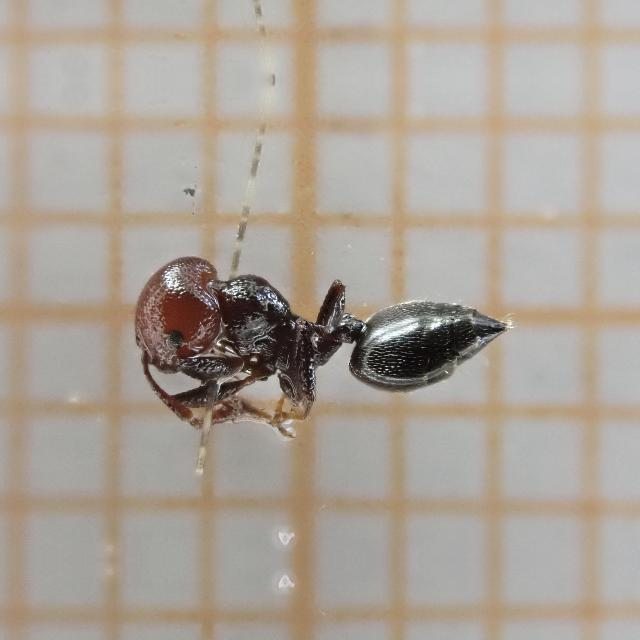Crematogaster: (133, 242, 512, 436)
